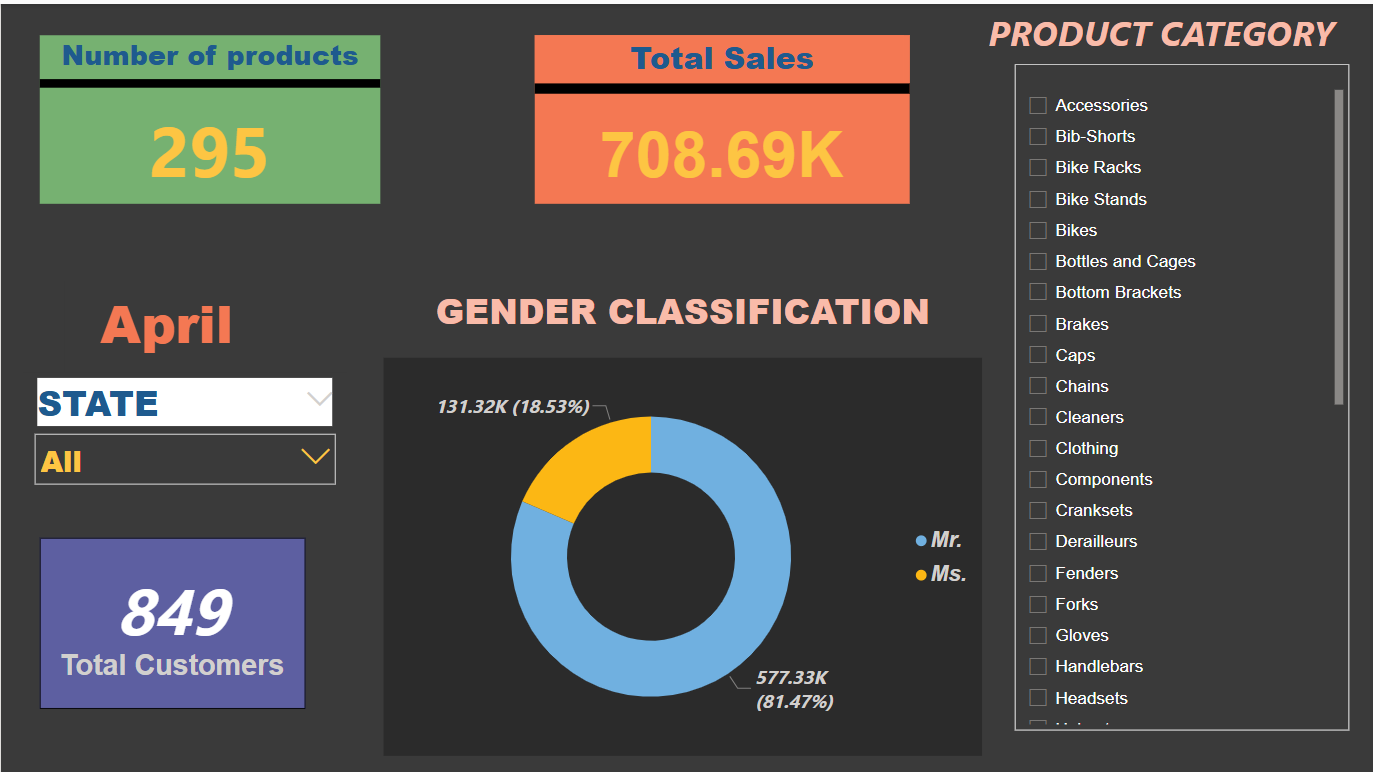

The page's visual inventory and layout, read from the dashboard file:
{"tool":"powerbi","page":{"name":"Page 1","canvas":[1280,720],"ordinal":0},"visuals":[{"type":"card","title":"Number of products","fields":{"Values":["Count(Product.Product_ID)"]},"box":[35.7,28.8,317,156.4],"z":0},{"type":"card","title":"Total Sales","fields":{"Values":["Sum(SalesOrderDetail.Line_Total)"]},"box":[496.7,28.8,348.5,156.4],"z":1000},{"type":"slicer","fields":{"Values":["ProductCategory.Name"]},"box":[942.7,56.3,311.5,620.2],"z":2000},{"type":"textbox","box":[355.4,258,557.1,71.4],"z":3000},{"type":"textbox","box":[879.6,0,400.7,56.3],"z":4000},{"type":"card","fields":{"Values":["CountNonNull(Customer.Customer_ID)"]},"box":[35.7,496.7,247,159.2],"z":5000},{"type":"donutChart","fields":{"Category":["Customer.Title"],"Y":["Sum(SalesOrderDetail.Line_Total)"]},"box":[355.4,329.3,557.1,370.5],"z":6000},{"type":"slicer","fields":{"Values":["address.State_Province"]},"box":[20.6,343.1,300.5,108.4],"z":7000},{"type":"textbox","box":[59,258,189.4,85.1],"z":8000}]}

Visuals, with their boxes in screenshot pixels (x1, y1, x2, y2), scaled from the page's 1280x720 canvas onto the 1373x772 screenshot:
"Number of products" card: [38,31,378,199]
"Total Sales" card: [533,31,907,199]
slicer - ProductCategory.Name: [1011,60,1345,725]
textbox: [381,277,979,353]
textbox: [944,0,1372,60]
card - CountNonNull(Customer.Customer_ID): [38,533,303,703]
donutChart - Customer.Title x Sum(SalesOrderDetail.Line_Total): [381,353,979,750]
slicer - address.State_Province: [22,368,344,484]
textbox: [63,277,266,368]
